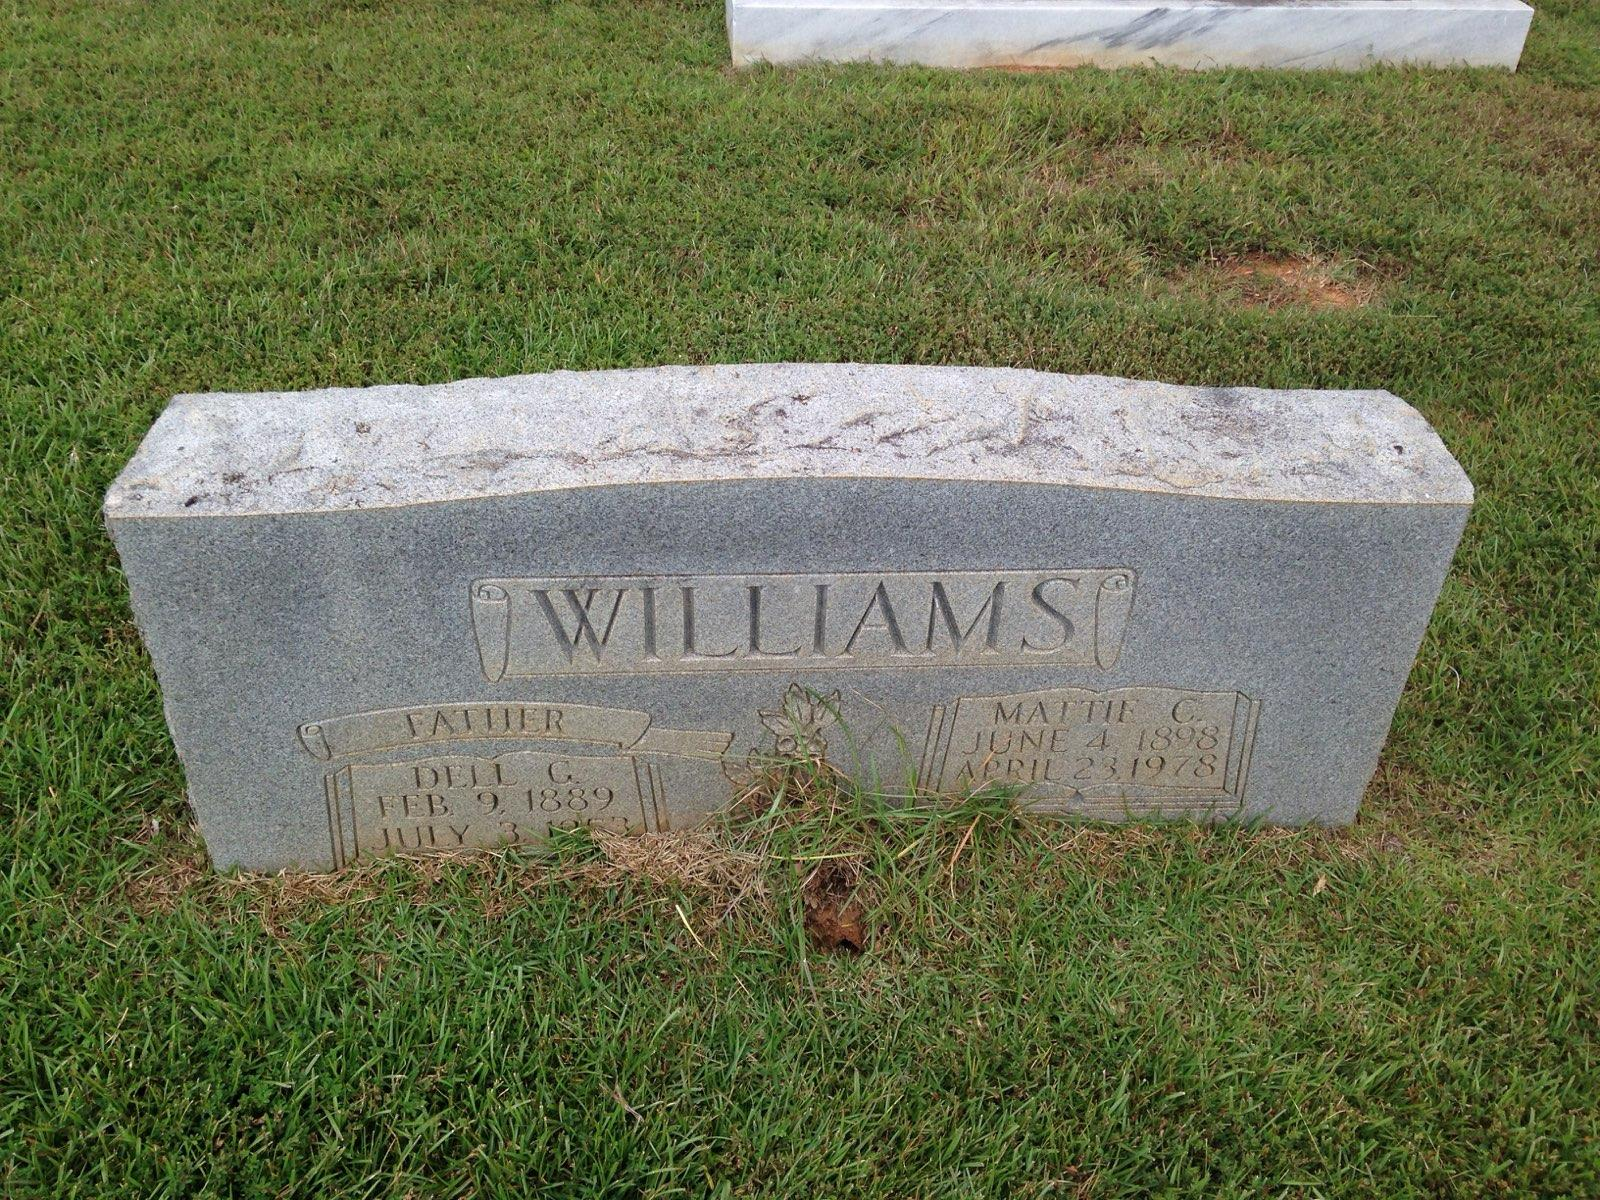upright: (113, 366, 1471, 879)
